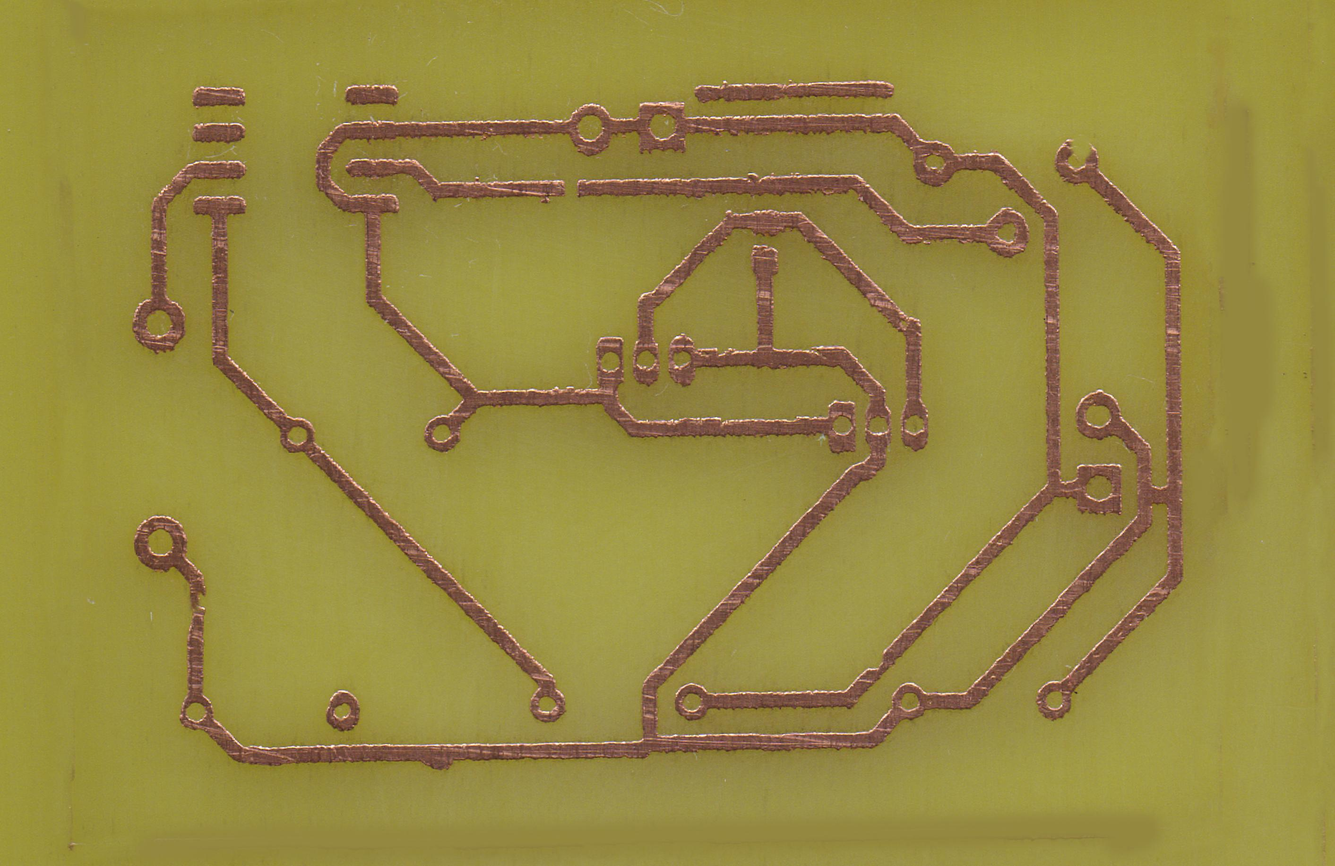missing_hole: (1053, 139, 1102, 185)
mouse_bite: (862, 650, 888, 673), (194, 591, 207, 612)
open_circuit: (547, 177, 593, 199)
short: (1138, 480, 1181, 510)
spur: (418, 745, 462, 773), (748, 217, 785, 238)
spurious_copper: (692, 79, 897, 103)
